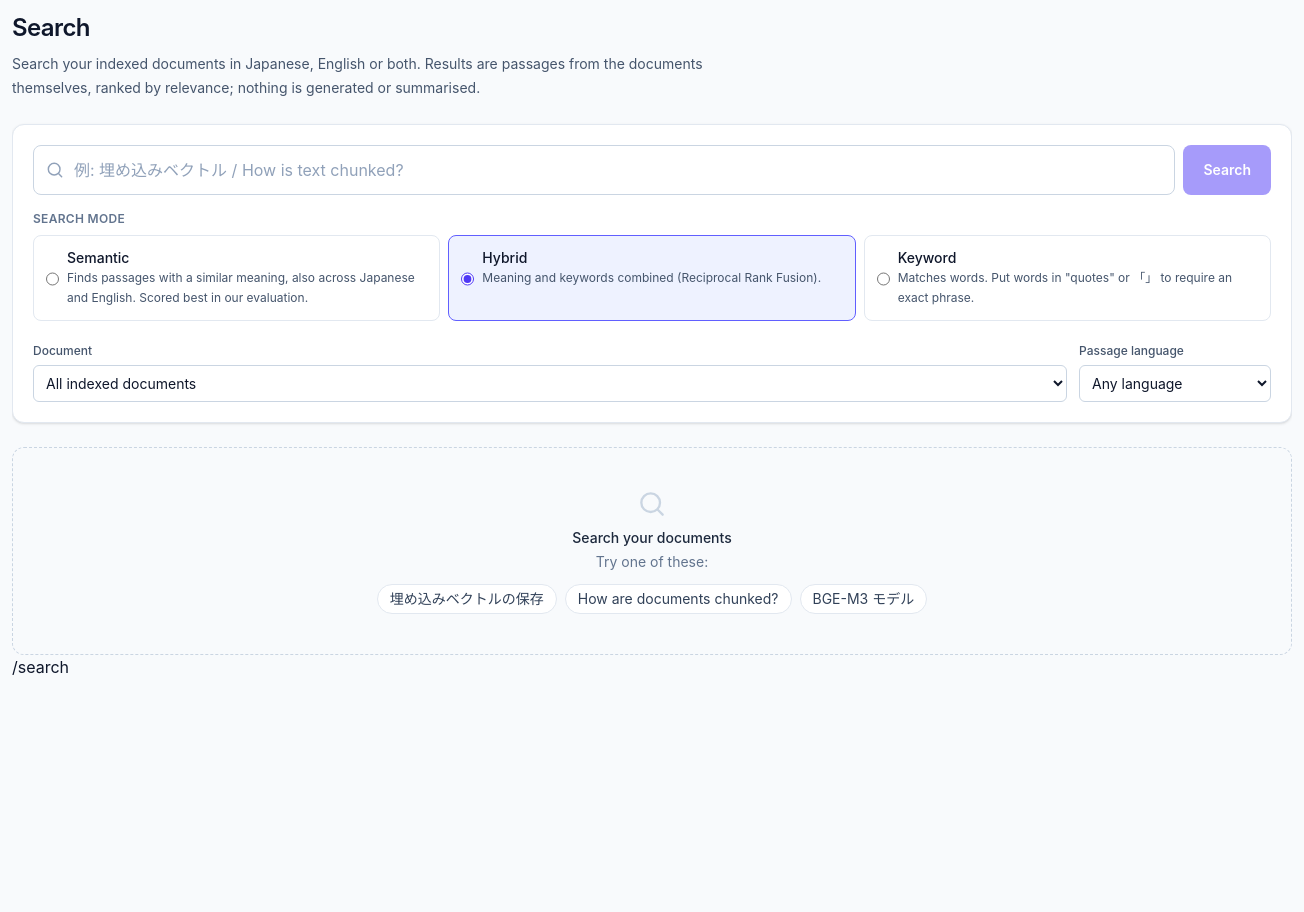
it: SearchPage › uses the server's default mode and renders ranked results
Check: the radio button labelled "Hybrid" is checked, box [461,250,474,308]
The selector shows the server's default once the options arrive.
Type "ベクトル" into the search field named "Search query" at (604, 170), box [33,145,1176,195]
Then press Enter
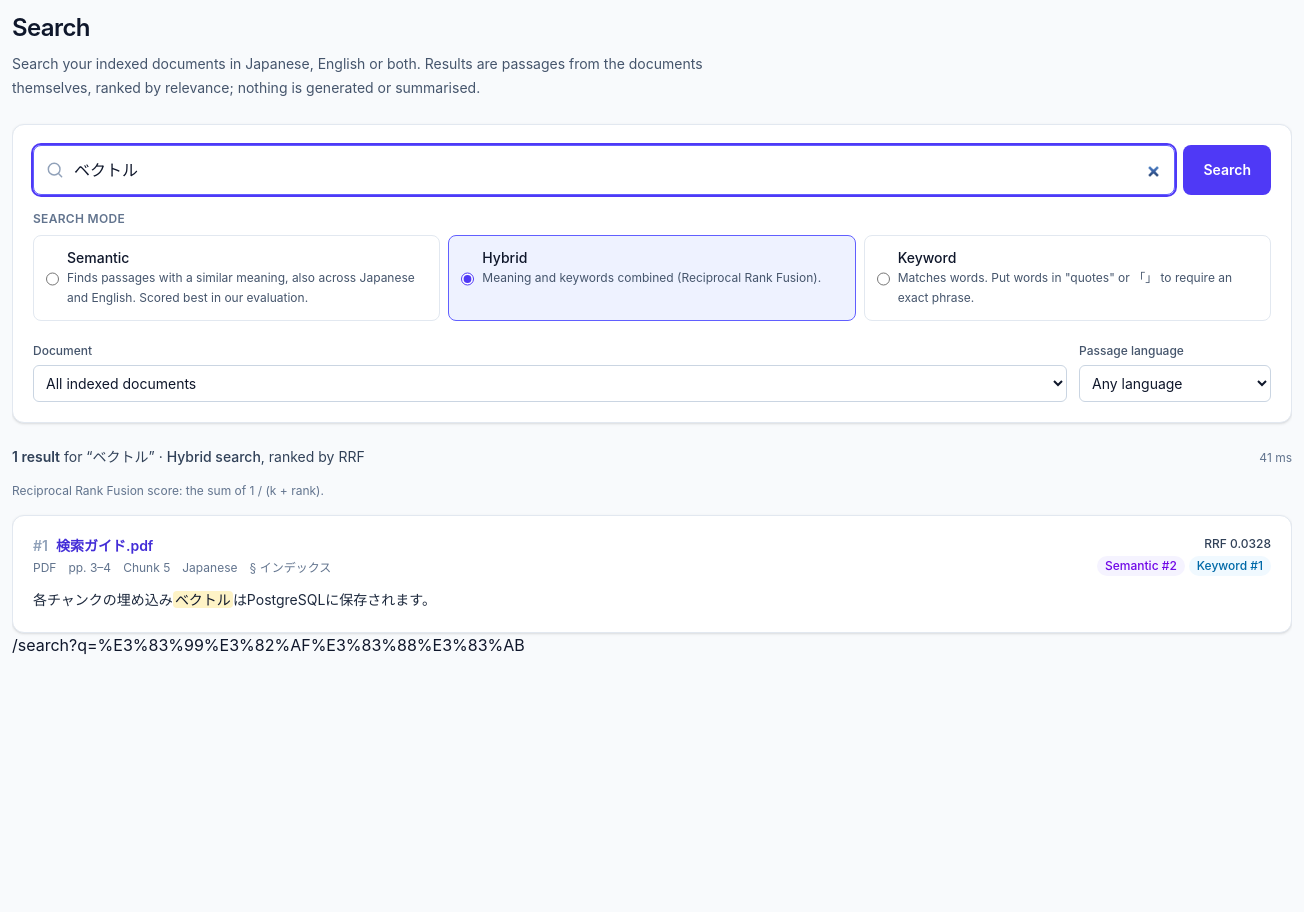
Check: the text "pp. 3–4" is shown, box [68,560,111,576]
Check: the text "§ インデックス" is shown, box [250,560,331,576]
Check: the text "RRF 0.0328" is shown, box [1204,536,1271,551]
